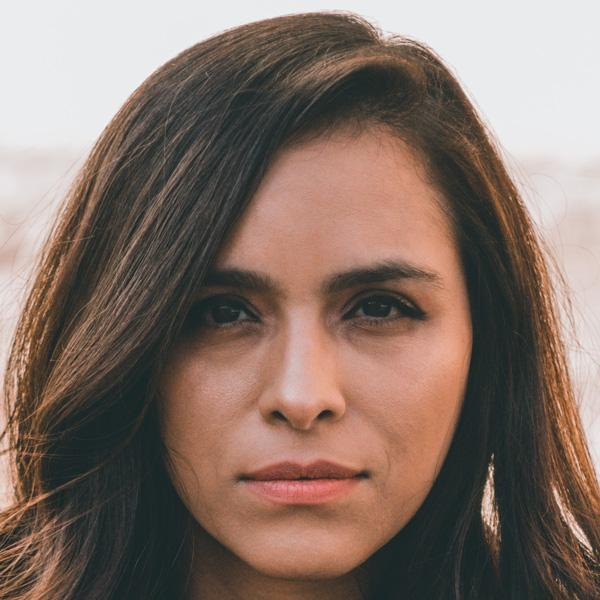Eyes: (332, 282, 434, 342), (179, 285, 272, 342)
